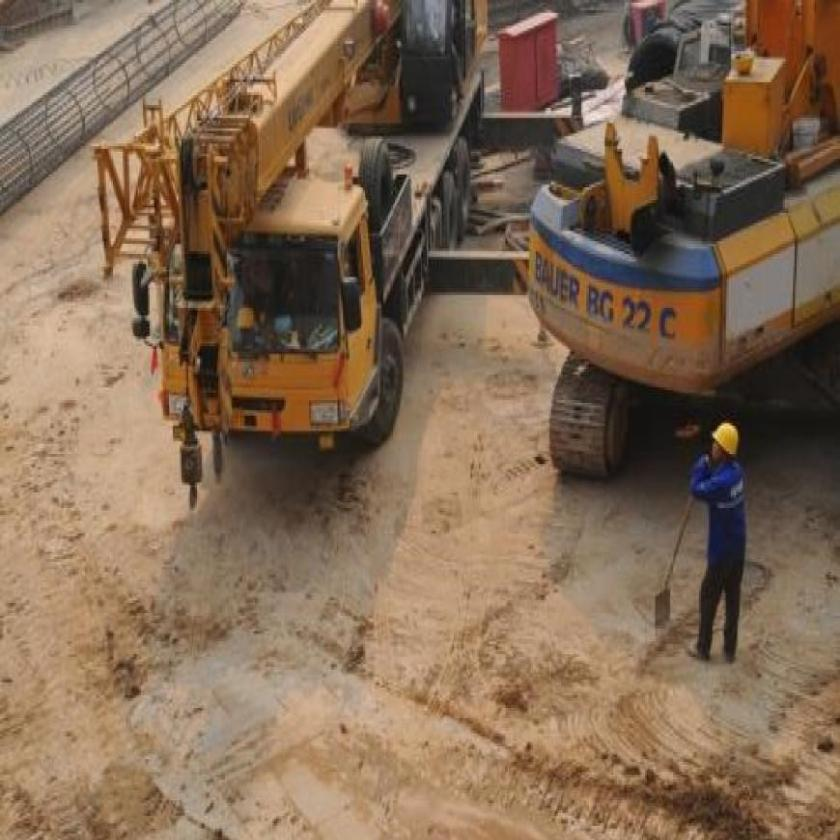Con_casco: (700, 414, 747, 468)
